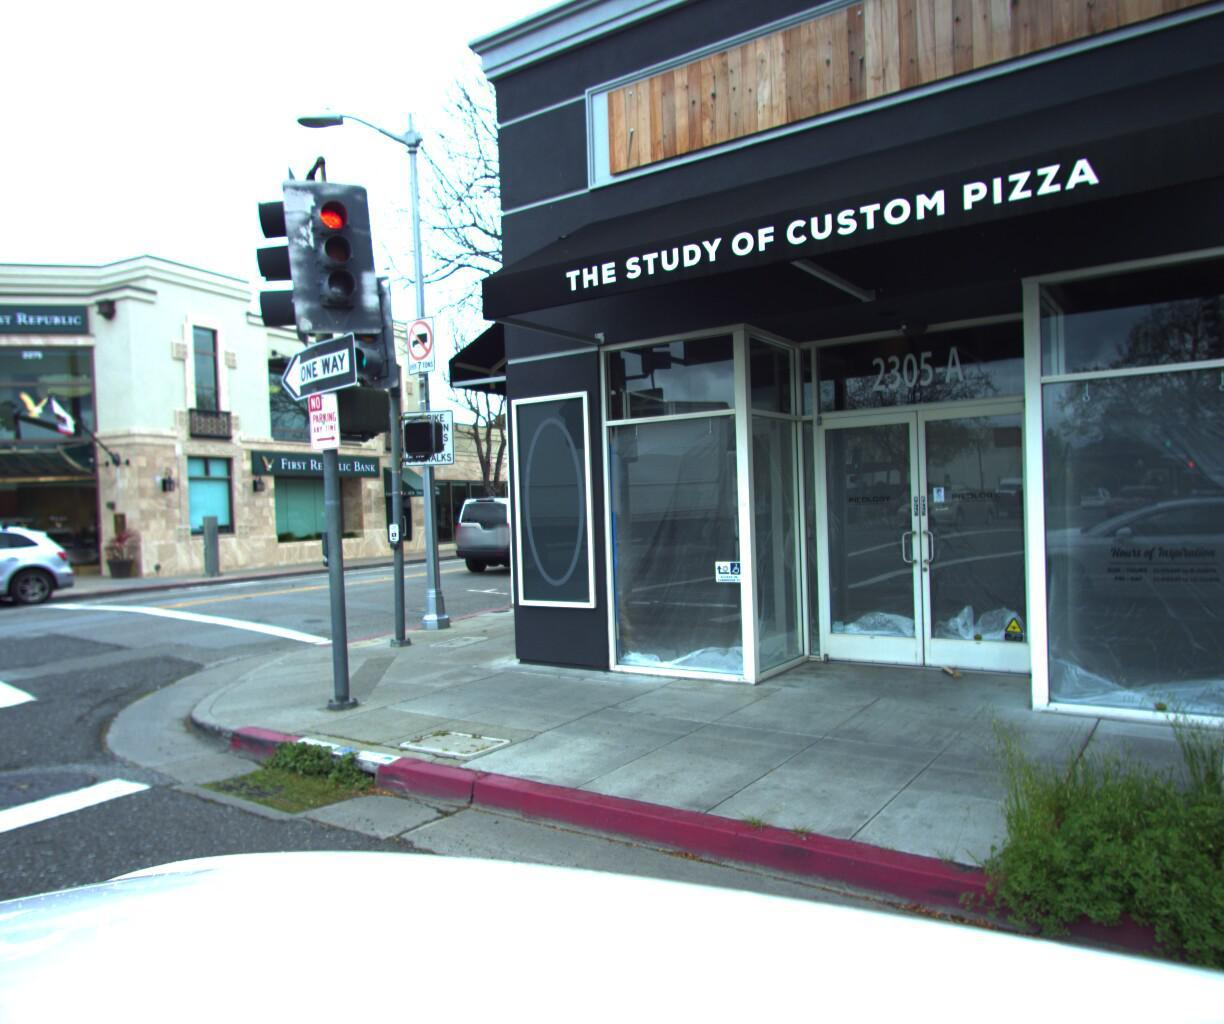car: (445, 498, 586, 585), (0, 525, 82, 635)
